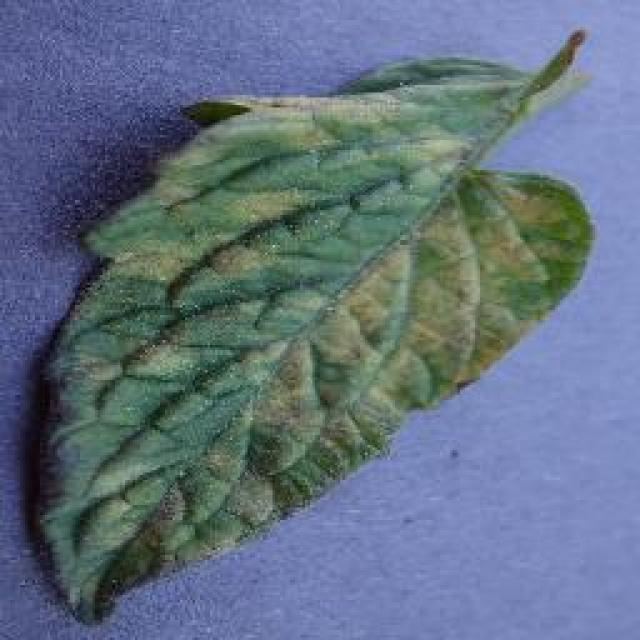Tomato___Leaf_Mold: (38, 25, 592, 618)
